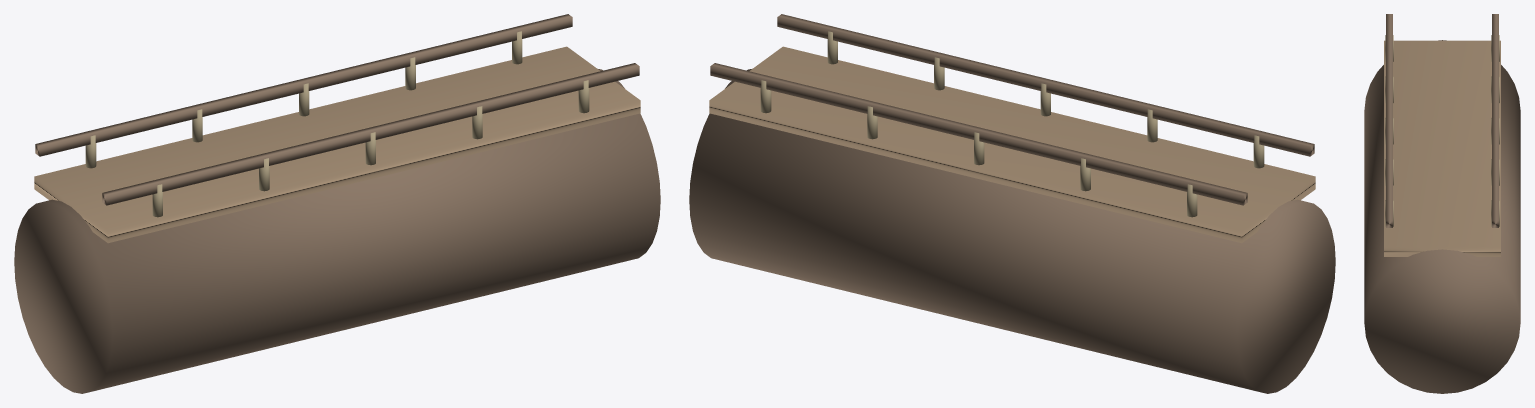
Rendered from nature_canopy_platform_branch.glb.
3 renders of one model, left to right at view 1: azimuth 30°, elevation 25°; view 2: azimuth 150°, elevation 25°; view 3: azimuth 270°, elevation 25°, orthographic. The views are drawn at different scales.
Parts seen in each view (by area): view 1: Colossal_Branch_Base, Deck_Walkway, Railing_Beam_R, Railing_Beam_L; view 2: Colossal_Branch_Base, Deck_Walkway, Railing_Beam_L, Railing_Beam_R; view 3: Colossal_Branch_Base, Deck_Walkway, Railing_Beam_L, Railing_Beam_R.
Boxes of the visible parts, bbox=[...] form: Colossal_Branch_Base: bbox=[14, 69, 660, 393]; Deck_Walkway: bbox=[34, 46, 640, 243]; Railing_Beam_R: bbox=[35, 14, 572, 156]; Railing_Beam_L: bbox=[102, 63, 639, 205]; Colossal_Branch_Base: bbox=[689, 69, 1335, 393]; Deck_Walkway: bbox=[709, 46, 1315, 243]; Railing_Beam_L: bbox=[777, 14, 1314, 156]; Railing_Beam_R: bbox=[710, 63, 1247, 205]; Colossal_Branch_Base: bbox=[1364, 40, 1520, 393]; Deck_Walkway: bbox=[1384, 40, 1500, 256]; Railing_Beam_L: bbox=[1386, 14, 1392, 227]; Railing_Beam_R: bbox=[1492, 14, 1498, 227].
Size of the model in its own units: 18 by 6.75 by 5.6.
